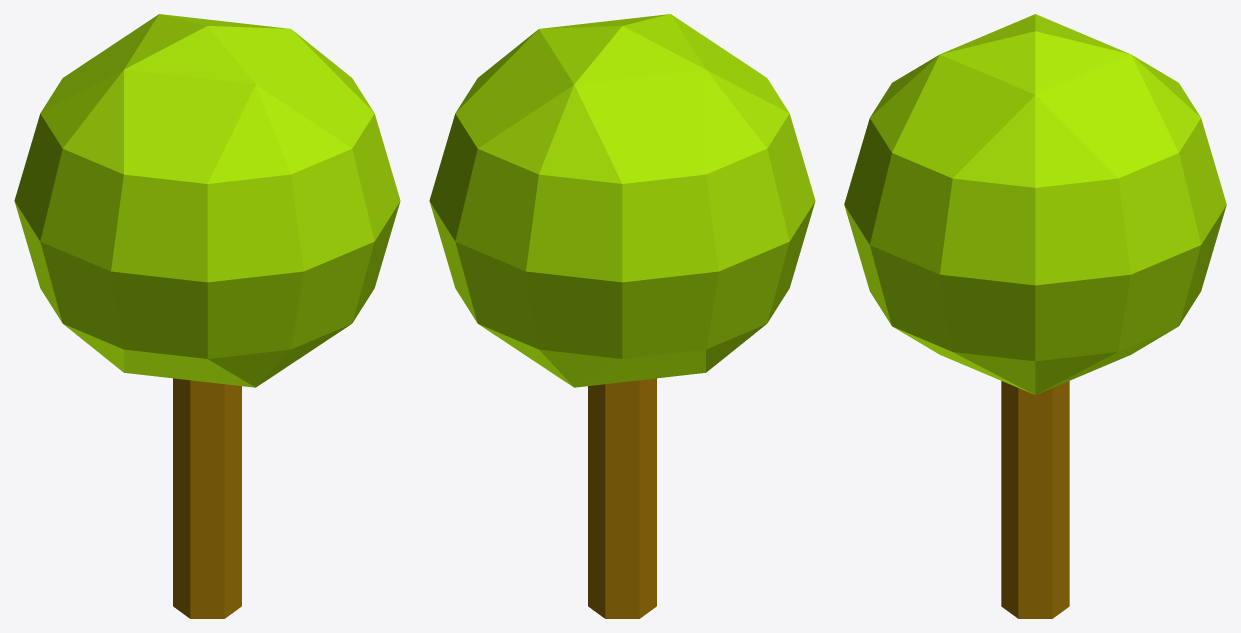
The model's file is Tree.fbx.
The picture shows the model from 3 angles, left to right: view 1: azimuth 30°, elevation 25°; view 2: azimuth 150°, elevation 25°; view 3: azimuth 270°, elevation 25°; orthographic projection.
Visible parts, largest first — view 1: Untitled.007; view 2: Untitled.007; view 3: Untitled.007.
Boxes of the visible parts, x1,y1,x2,y2 form: Untitled.007: (14, 14, 400, 618); Untitled.007: (429, 14, 815, 618); Untitled.007: (844, 14, 1226, 618).
Bounding box in the file's own units: 337 × 559 × 337.
